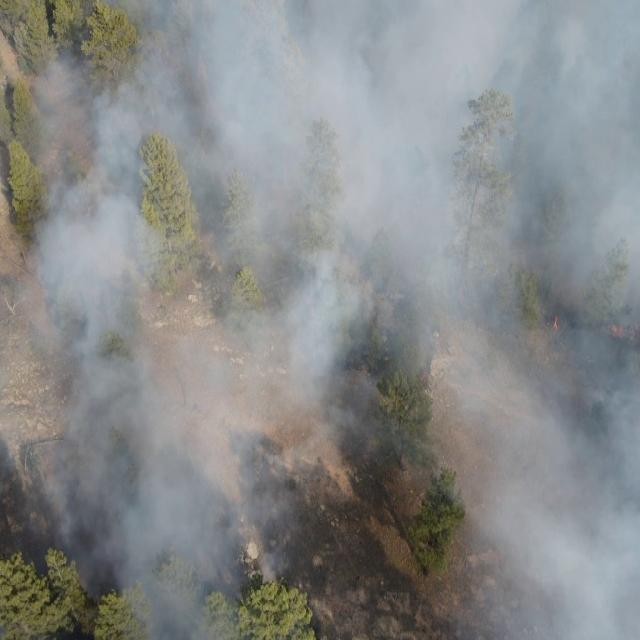fire: (602, 324, 640, 344), (421, 368, 432, 387), (552, 314, 560, 331)
smoke: (0, 0, 640, 640)
